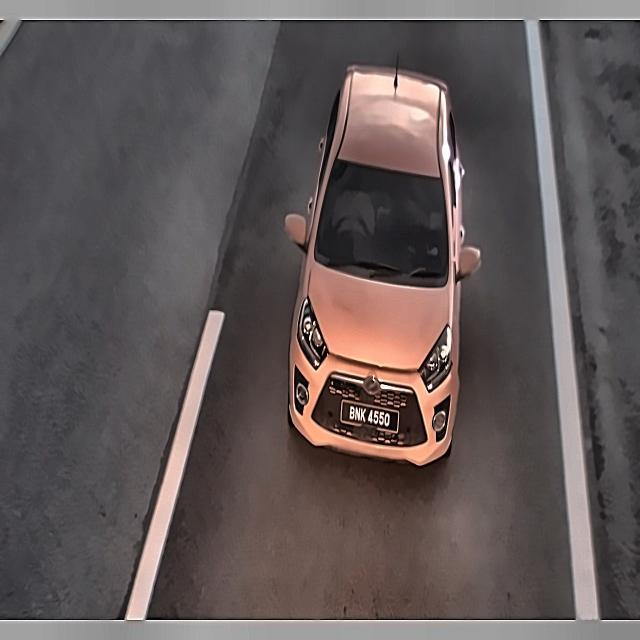car: (336, 395, 404, 440)
